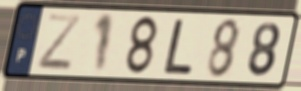1: (91, 12, 115, 77)
8: (123, 13, 162, 78), (205, 16, 243, 80), (247, 21, 282, 79)
L: (161, 17, 195, 77)
Z: (35, 12, 83, 73)
